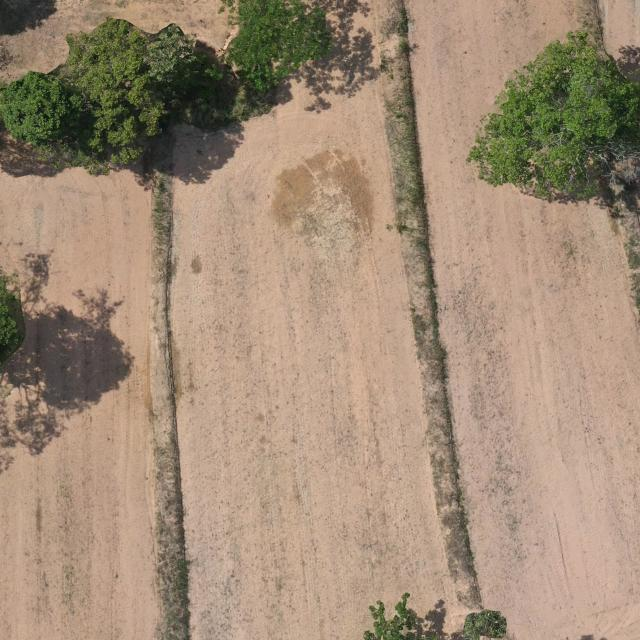Tree: (465, 30, 640, 204), (66, 16, 166, 165), (218, 0, 330, 94), (0, 68, 85, 168), (361, 591, 508, 640), (0, 253, 25, 388), (147, 23, 200, 86)
